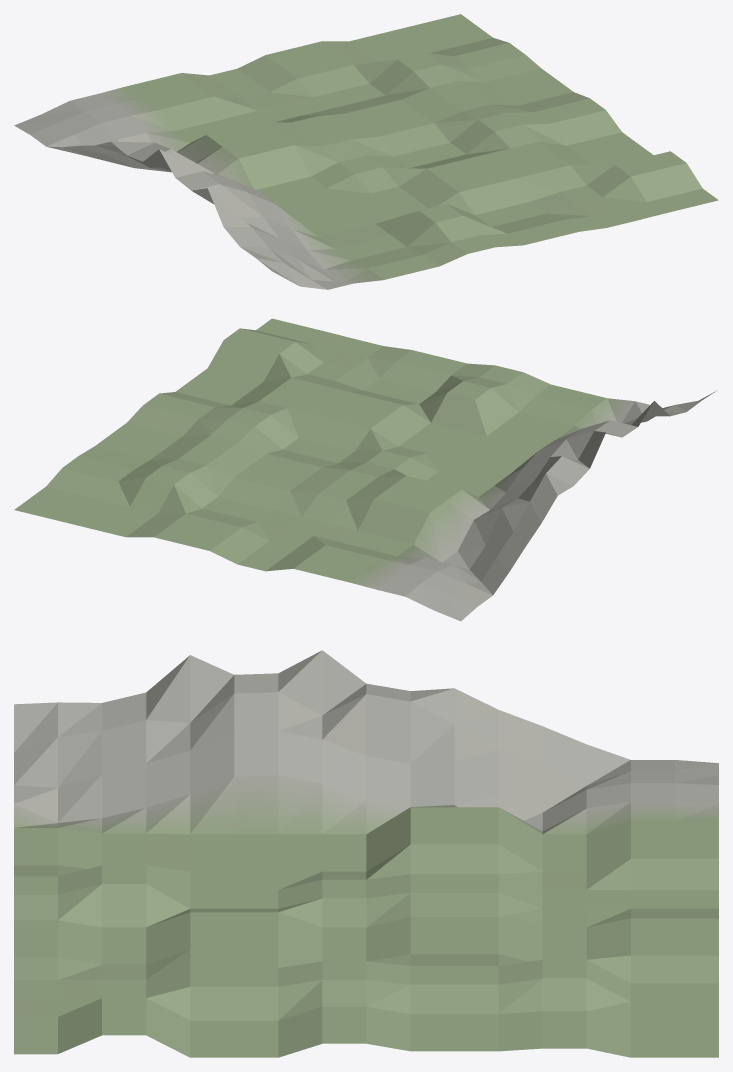
The picture shows the model from 3 angles, top to bottom: view 1: azimuth 30°, elevation 25°; view 2: azimuth 150°, elevation 25°; view 3: azimuth 270°, elevation 25°; orthographic projection. The views are drawn at different scales.
Size of the model in its own units: 32 by 6.27 by 32.
